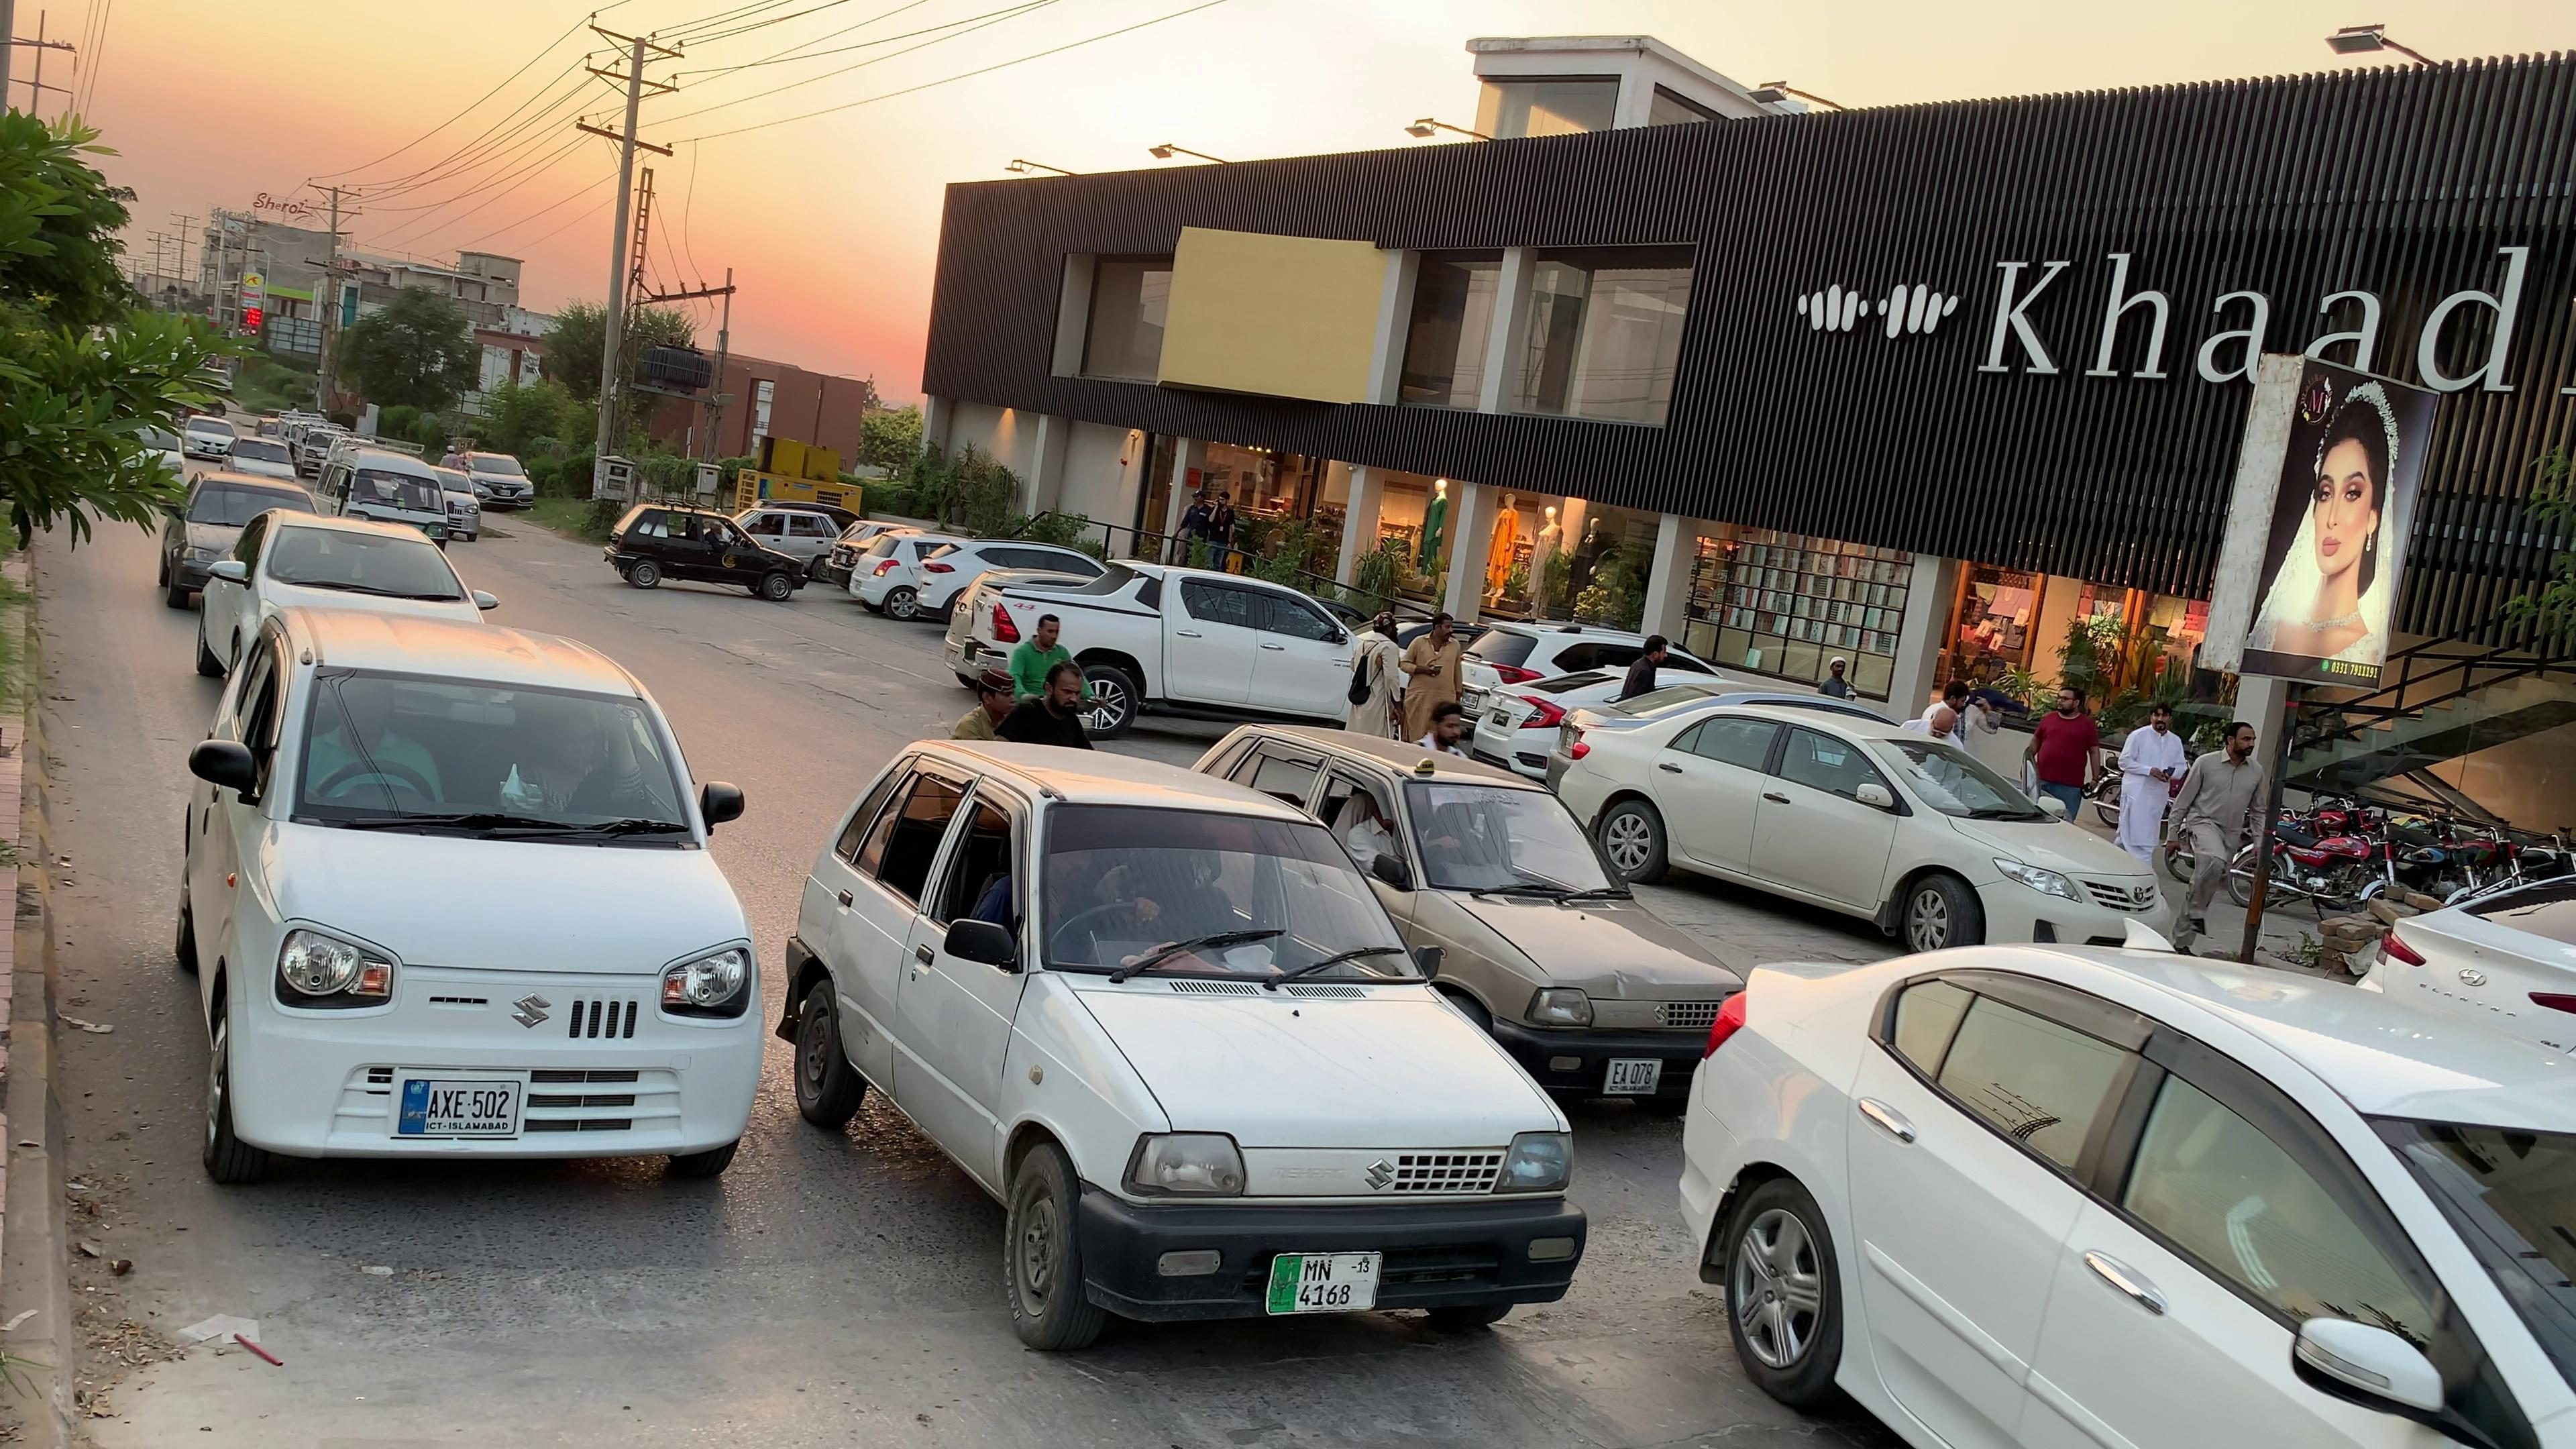windshield: (295, 648, 725, 842), (1028, 791, 1419, 996)
